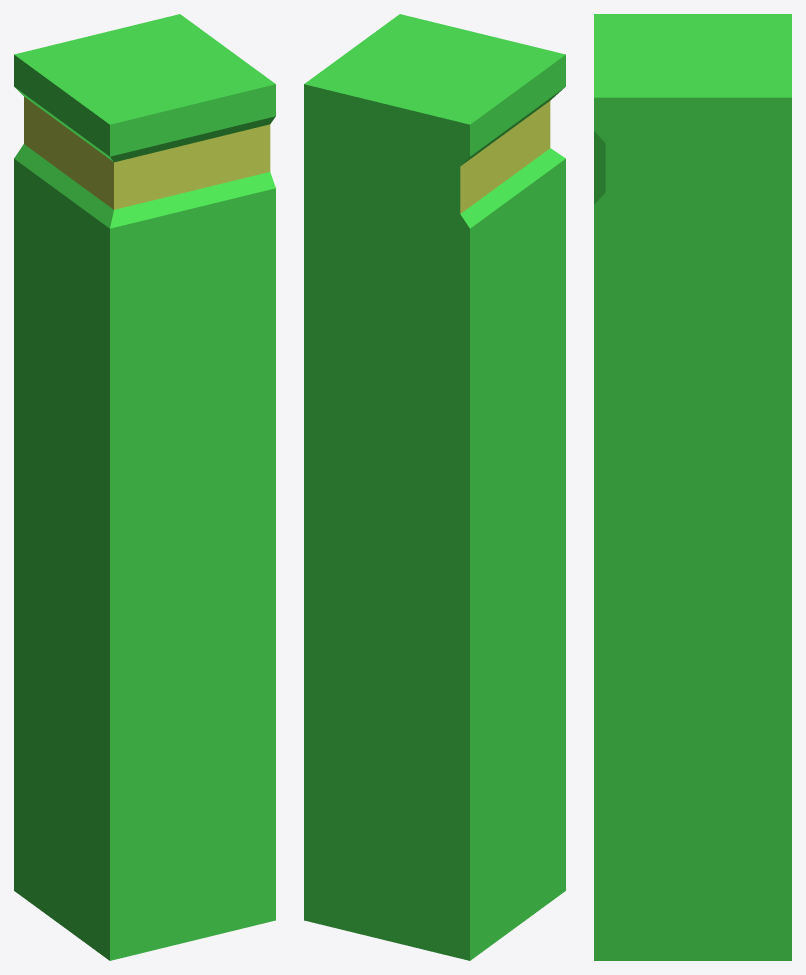
The model's file is Partition_Wall_03_Corner.fbx.
The picture shows the model from 3 angles, left to right: view 1: azimuth 30°, elevation 25°; view 2: azimuth 150°, elevation 25°; view 3: azimuth 270°, elevation 25°; orthographic projection. The views are drawn at different scales.
Visible parts, largest first — view 1: Partition_Wall_03_Corner; view 2: Partition_Wall_03_Corner; view 3: Partition_Wall_03_Corner.
Boxes of the visible parts, x1,y1,x2,y2 form: Partition_Wall_03_Corner: (14,14,275,960); Partition_Wall_03_Corner: (304,14,565,960); Partition_Wall_03_Corner: (594,14,791,960).
Bounding box in the file's own units: 18.29 × 87.99 × 18.29.
